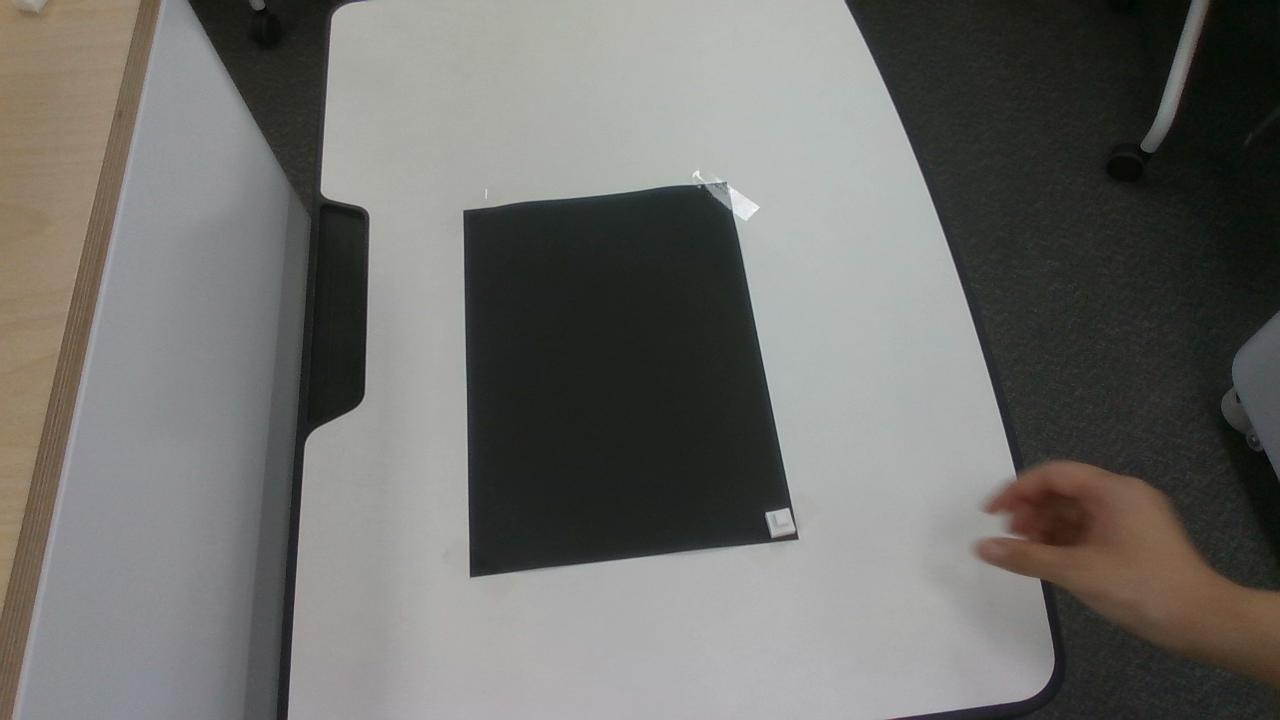cube: (766, 508, 795, 537)
